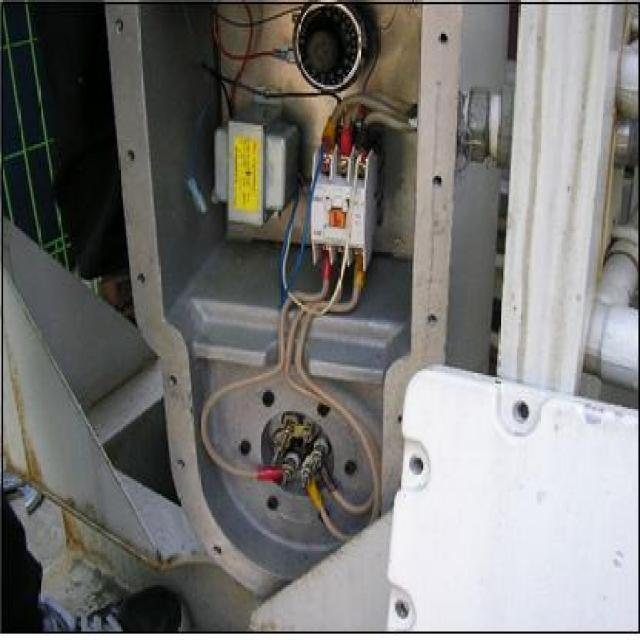Boiler: (83, 0, 512, 604)
